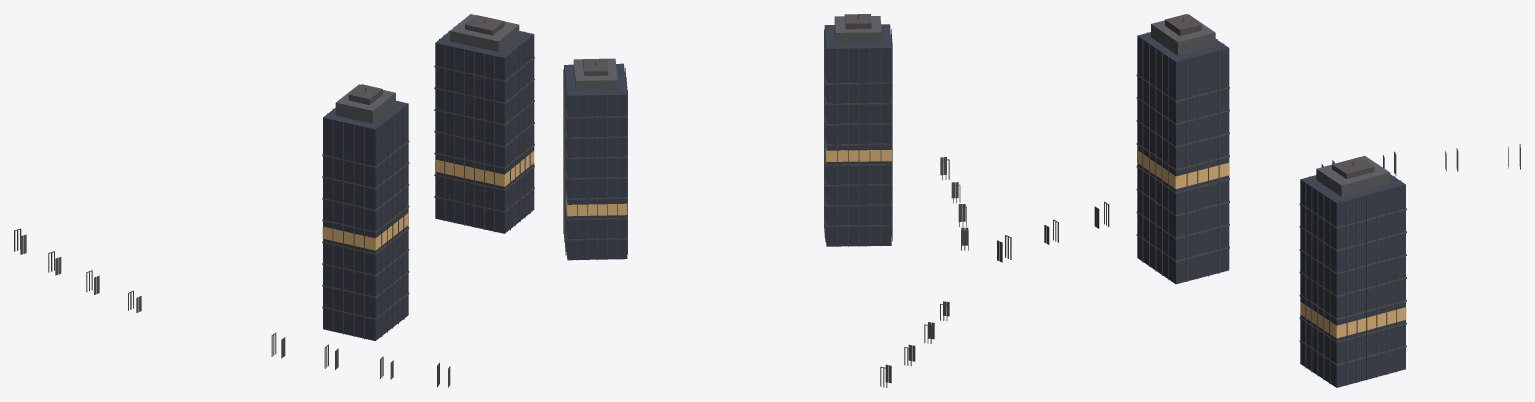
The model's file is SM_City_AbrajAlMalih_4.fbx.
The picture shows the model from 3 angles, left to right: view 1: azimuth 30°, elevation 25°; view 2: azimuth 150°, elevation 25°; view 3: azimuth 270°, elevation 25°; orthographic projection. The views are drawn at different scales.
Visible parts, largest first — view 1: SM_City_AbrajAlMalih_4; view 2: SM_City_AbrajAlMalih_4; view 3: SM_City_AbrajAlMalih_4.
Part boxes in pixels (x1,y1,x2,y2): SM_City_AbrajAlMalih_4: (14,14,534,387); SM_City_AbrajAlMalih_4: (563,14,968,387); SM_City_AbrajAlMalih_4: (997,14,1520,387).
Size of the model in its own units: 7511 by 3895 by 7484.
6 materials, 6 textured.
